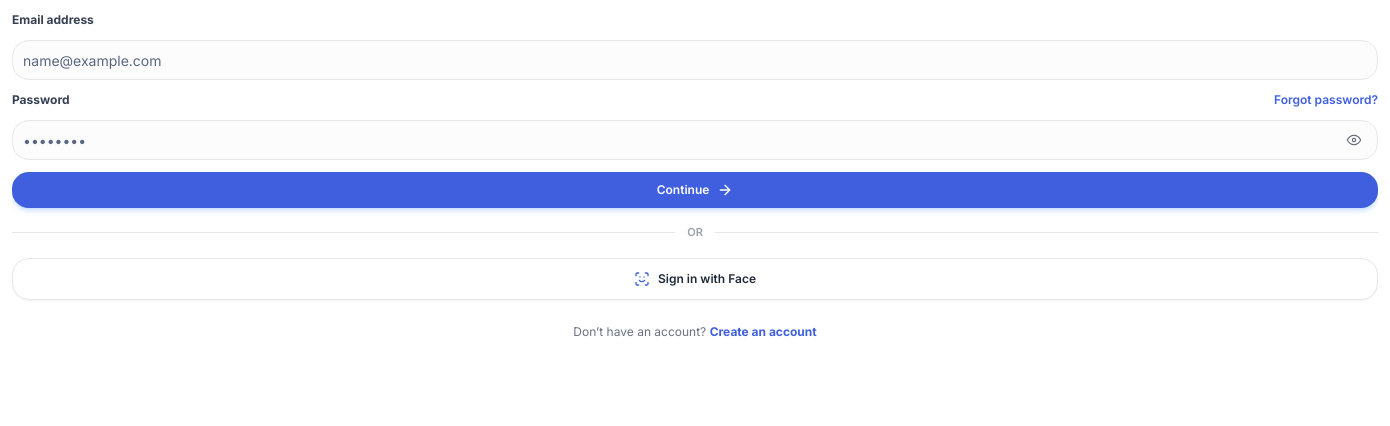
LoginForm › shows a useful translated error on failed login
Type "c@test.dev" into the field labelled "Email address" at (695, 60), box [12,40,1378,80]
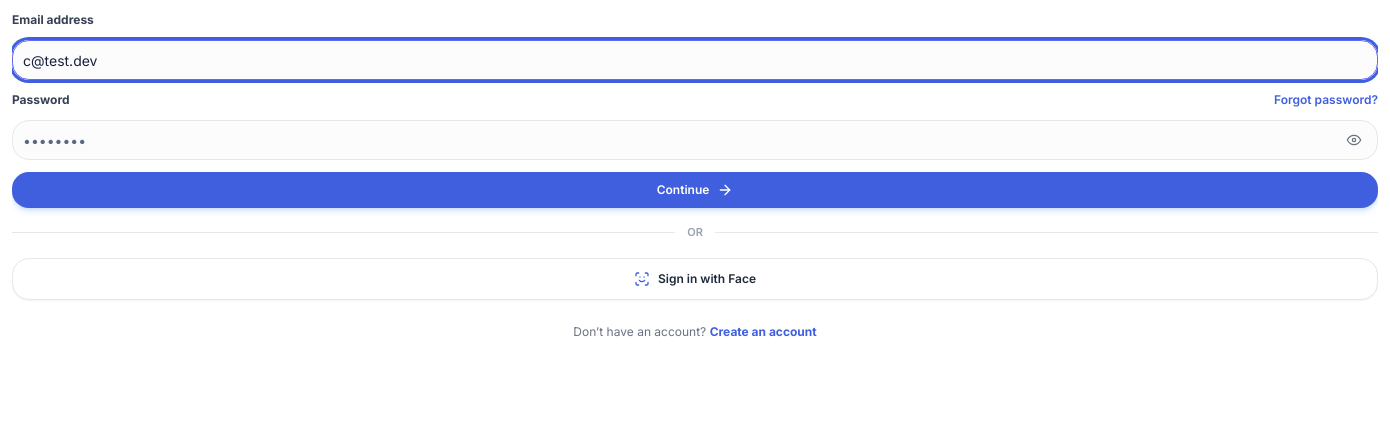
Type "WrongPassword1" into the password field labelled "Password" at (695, 140), box [12,120,1378,160]
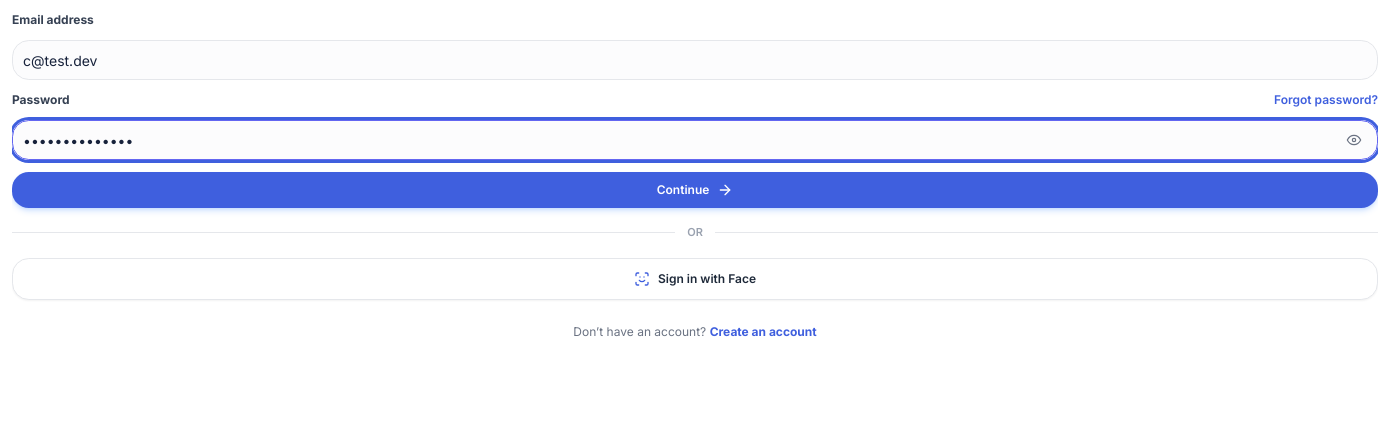
Click the button "Continue" at (695, 190), box [12,172,1378,208]
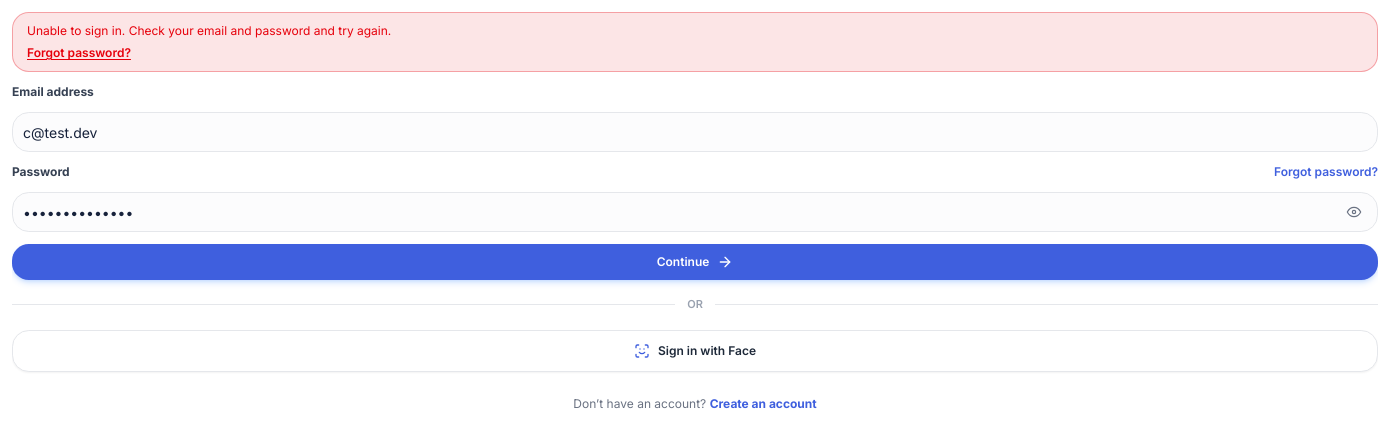
Now the text "Unable to sign in. Check your email and password and try again." is shown, box [27,23,391,38]
